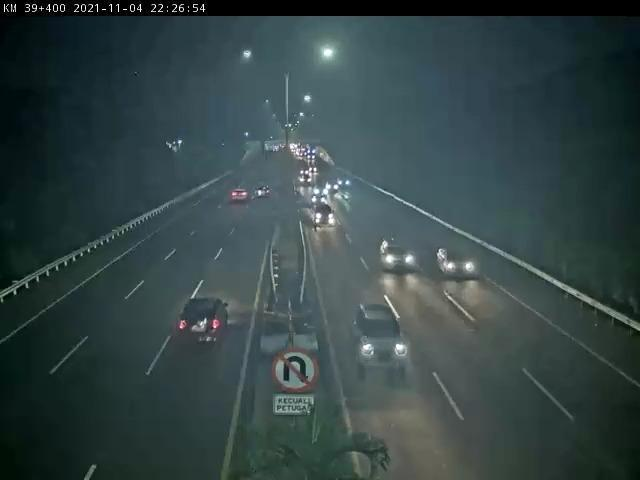car: (353, 298, 410, 381), (173, 296, 238, 343), (436, 240, 480, 291), (377, 235, 418, 280), (307, 202, 340, 234), (243, 178, 267, 205), (229, 182, 249, 201)
